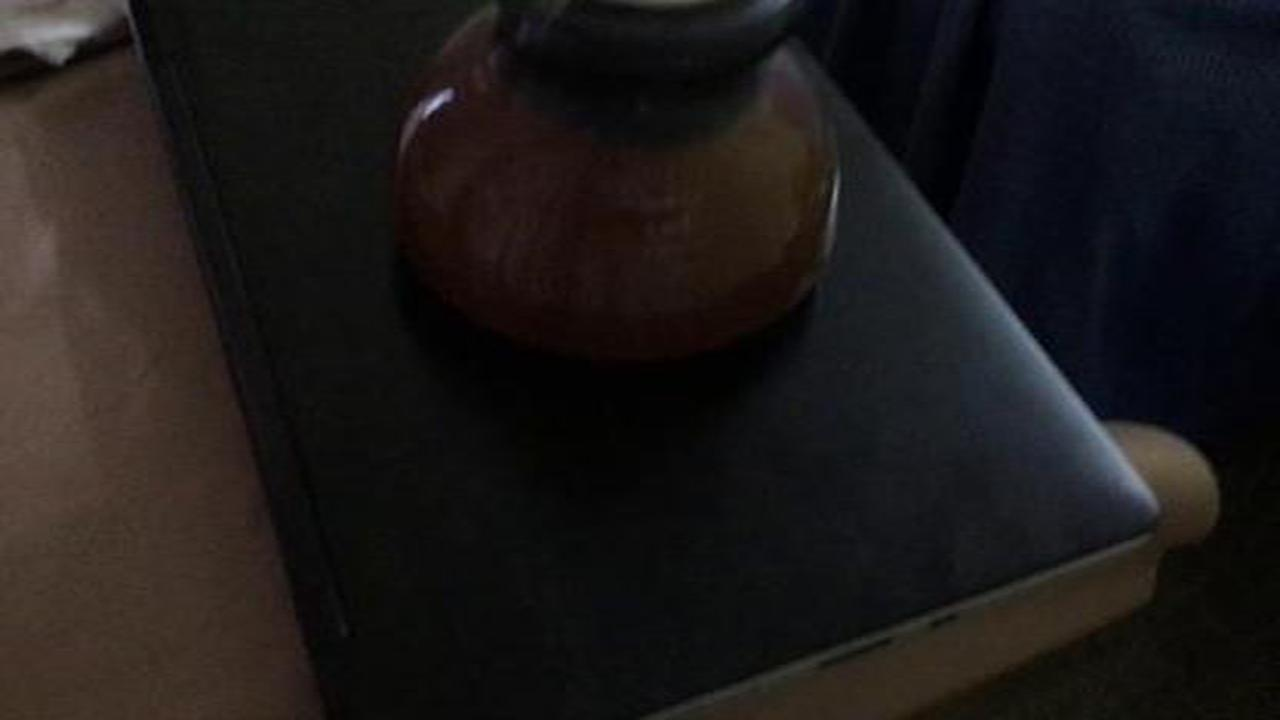insulator_pin: (379, 5, 850, 376)
